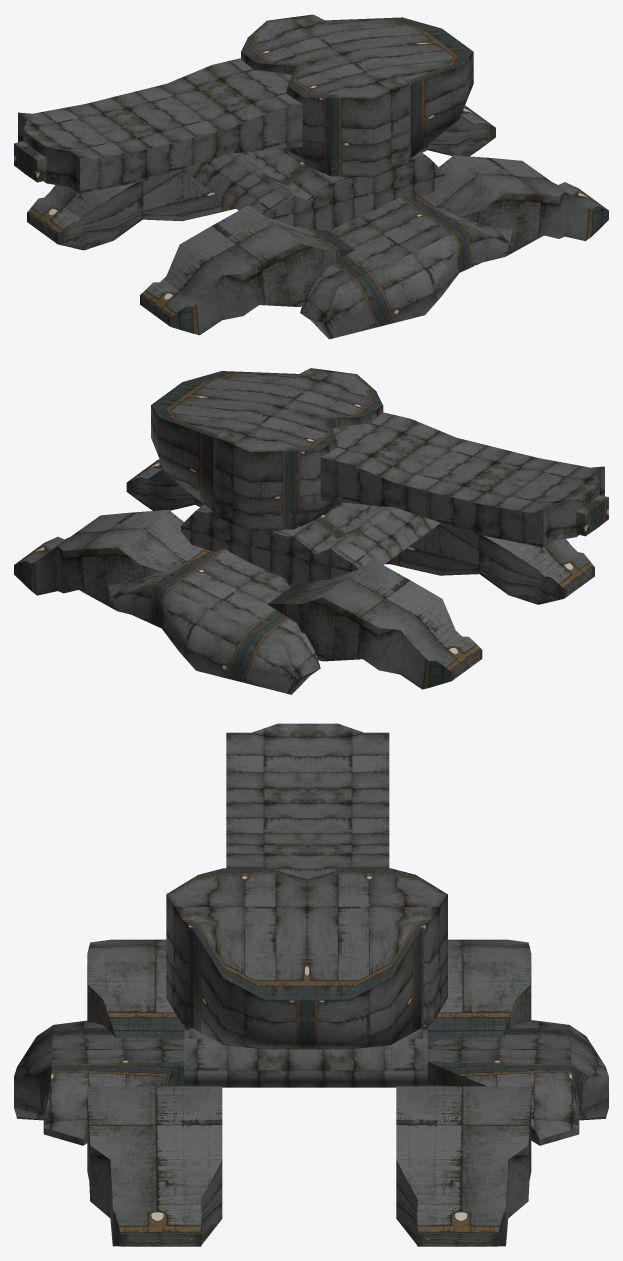
File: Tank_level_1.FBX
3 views of the same model, one above another, from view 1: azimuth 30°, elevation 25°; view 2: azimuth 150°, elevation 25°; view 3: azimuth 270°, elevation 25° (orthographic). The views are drawn at different scales.
Parts seen in each view (by area): view 1: Box005, Box003, Box006, Box014, Box013, Box020, Box016, Box021, Box018, Box015, Box019; view 2: Box018, Box017, Box021, Box016, Box015, Box019, Box014, Box006, Box005, Box013, Box020; view 3: Box005, Box018, Box015, Box013, Box017, Box003, Box006, Box021, Box016, Box014, Box020, Box019.
Boxes of the visible parts, x1,y1,x2,y2 form: Box005: (283,40,473,177); Box003: (300,195,512,339); Box006: (25,76,302,193); Box014: (140,205,355,335); Box013: (413,155,608,262); Box020: (214,151,444,230); Box016: (27,169,235,250); Box021: (14,58,291,173); Box018: (241,14,456,74); Box015: (420,105,495,156); Box019: (182,148,286,191); Box018: (151,393,340,530); Box017: (108,548,320,694); Box021: (320,430,597,547); Box016: (267,560,482,689); Box015: (14,510,214,614); Box019: (181,504,411,585); Box014: (386,523,594,604); Box006: (332,412,608,527); Box005: (167,368,383,428); Box013: (126,459,203,510); Box020: (338,502,440,544); Box005: (166,867,307,1049); Box018: (307,867,447,1049); Box015: (396,1084,531,1246); Box013: (87,1085,222,1246); Box017: (427,1020,608,1145); Box003: (14,1020,184,1145); Box006: (226,723,308,878); Box021: (308,723,389,878); Box016: (427,939,531,1041); Box014: (87,939,184,1038); Box020: (184,1024,305,1087); Box019: (306,1025,427,1087).
Size of the model in its own units: 101 by 34.16 by 76.84.
